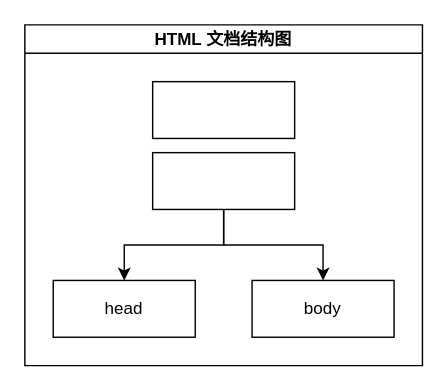
The diagram is 447 pixels wide and 391 high, and some of its shapes have lost their labels. Here are the shapes that lost their labels. From the top down, the centre of each, then its label:
At (x=223, y=109): "!doctype".
At (x=223, y=180): "html".
